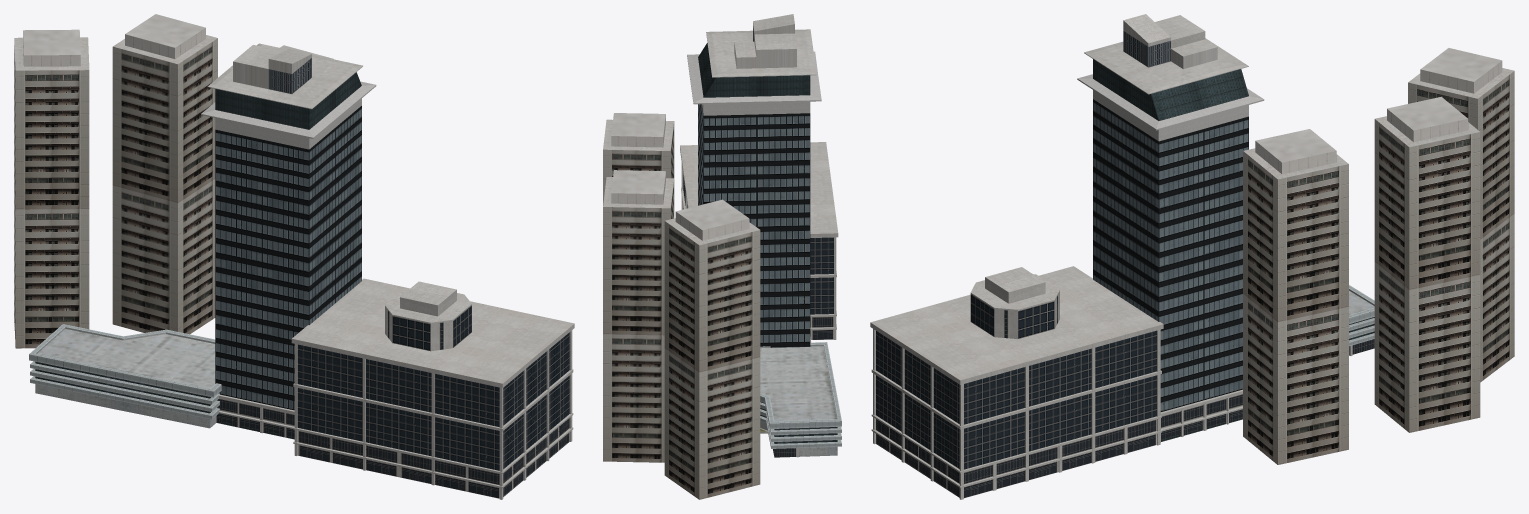
File: Building2.fbx
The picture shows the model from 3 angles, left to right: view 1: azimuth 30°, elevation 25°; view 2: azimuth 150°, elevation 25°; view 3: azimuth 270°, elevation 25°; orthographic projection. The views are drawn at different scales.
Visible parts, largest first — view 1: Building2; view 2: Building2; view 3: Building2.
Boxes of the visible parts, box(x1,y1,x2,y2) form: Building2: box(14, 14, 574, 499); Building2: box(603, 14, 841, 499); Building2: box(870, 14, 1514, 499).
Bounding box in the file's own units: 47.08 × 46.03 × 70.72.
